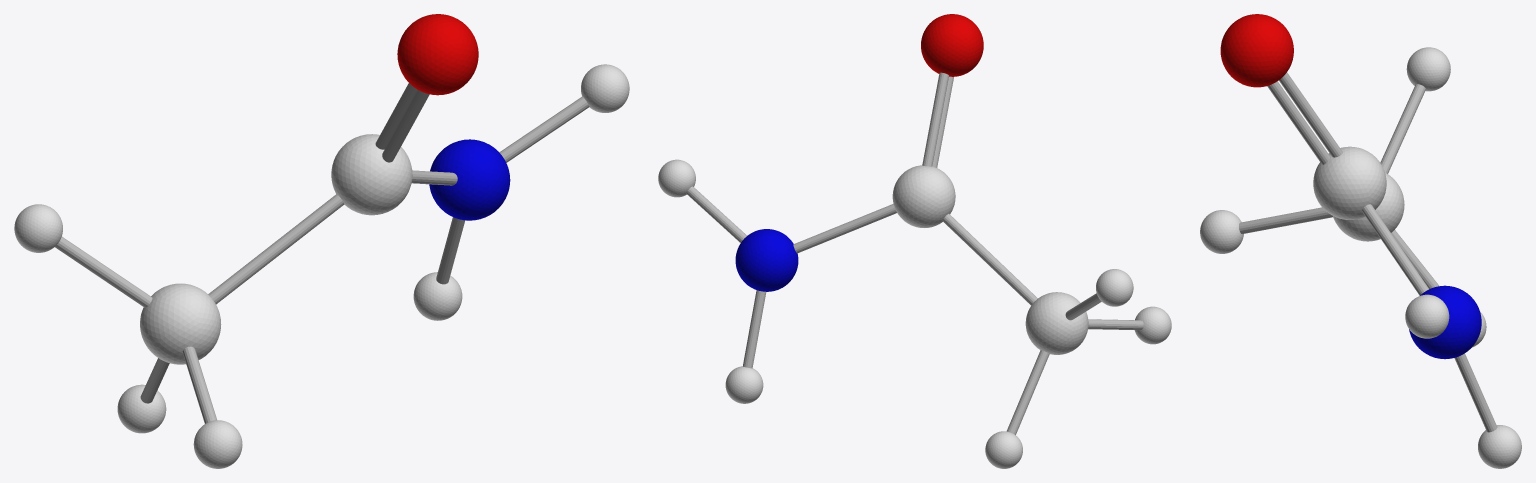
3 renders of one model, left to right at view 1: azimuth 30°, elevation 25°; view 2: azimuth 150°, elevation 25°; view 3: azimuth 270°, elevation 25°, orthographic. The views are drawn at different scales.
Visible parts, largest first — view 1: world; view 2: world; view 3: world.
Boxes of the visible parts, box(x1,y1,x2,y2) form: world: box(14, 14, 629, 468); world: box(658, 14, 1171, 468); world: box(1200, 14, 1521, 468).
Size of the model in its own units: 4.32 by 3.07 by 2.19.
